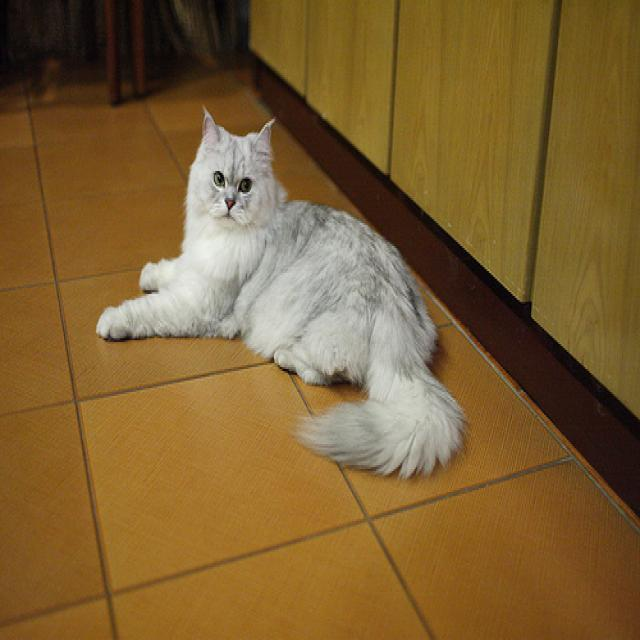Persian: (197, 102, 274, 227)
